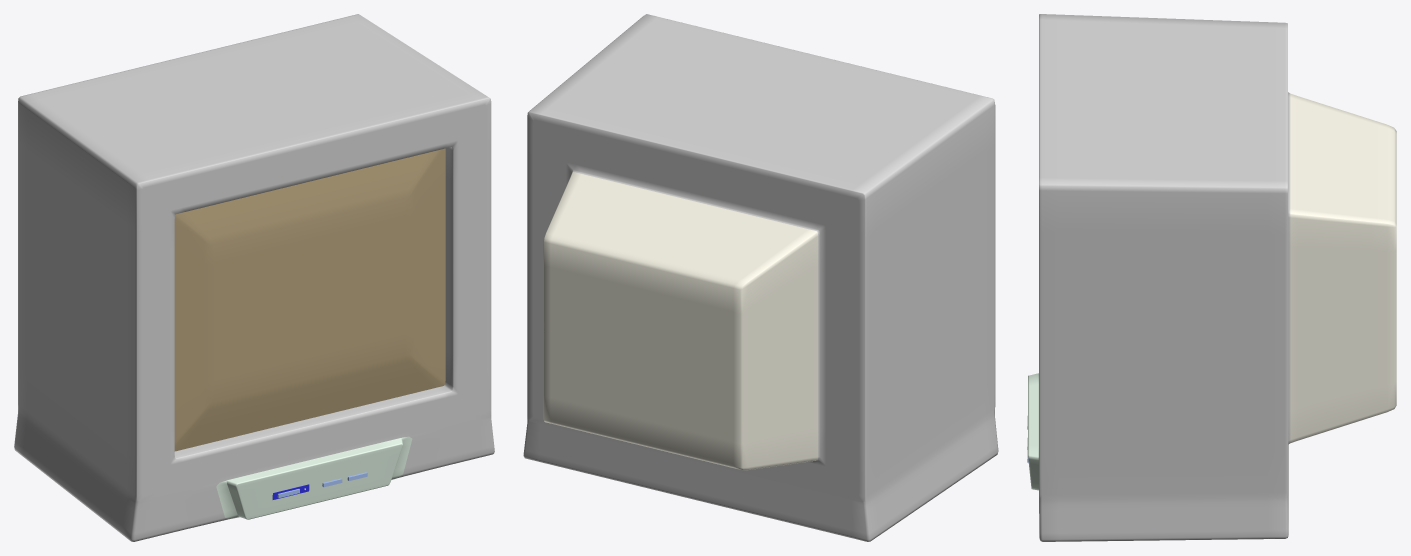
3 views of the same model, side by side, from view 1: azimuth 30°, elevation 25°; view 2: azimuth 150°, elevation 25°; view 3: azimuth 270°, elevation 25° (orthographic).
Visible parts, largest first — view 1: Tv, Screen, Panel; view 2: Tv; view 3: Tv, Panel.
Boxes of the visible parts, x1,y1,x2,y2 form: Tv: (14,14,494,541); Screen: (174,148,445,451); Panel: (227,438,402,519); Tv: (523,14,998,541); Tv: (1038,14,1396,541); Panel: (1028,373,1038,490).
Bounding box in the file's own units: 184 × 174 × 163.
